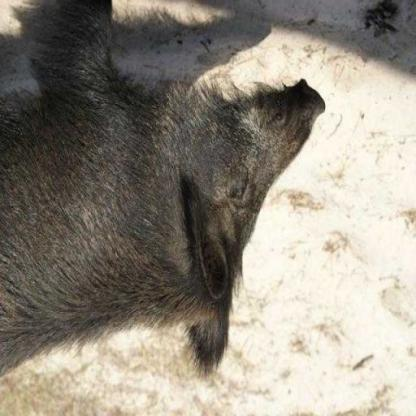boar: (11, 1, 413, 395)
